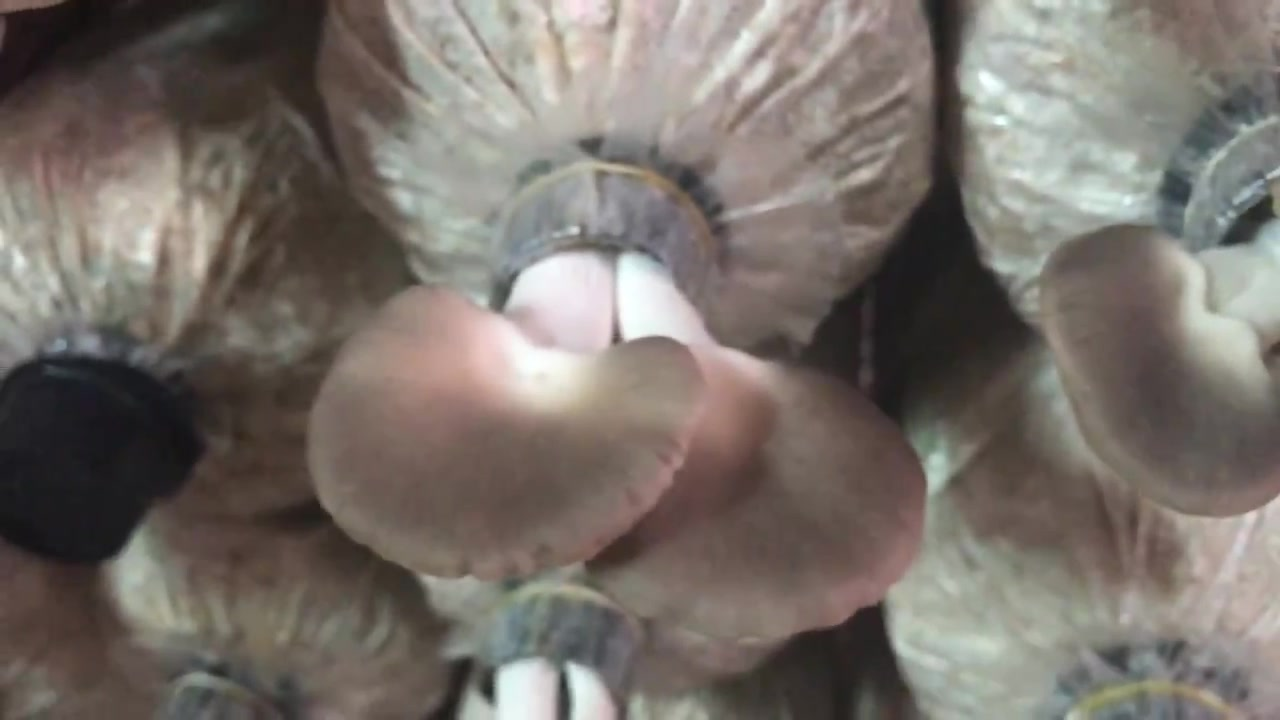nam: (305, 139, 930, 655), (1043, 218, 1280, 525)
